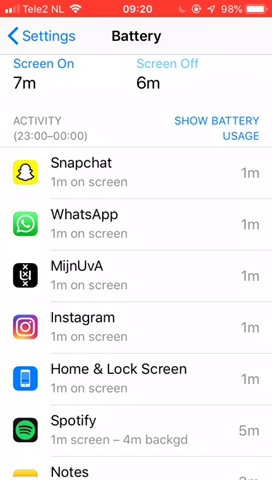activity: (7, 110, 102, 143)
app: (10, 152, 265, 189), (9, 205, 264, 242), (11, 258, 266, 295), (9, 307, 264, 344), (9, 359, 264, 396), (8, 411, 263, 448)
